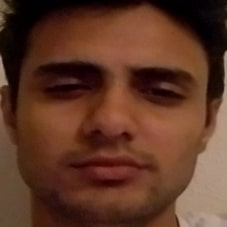drowsy: (30, 53, 200, 196)
